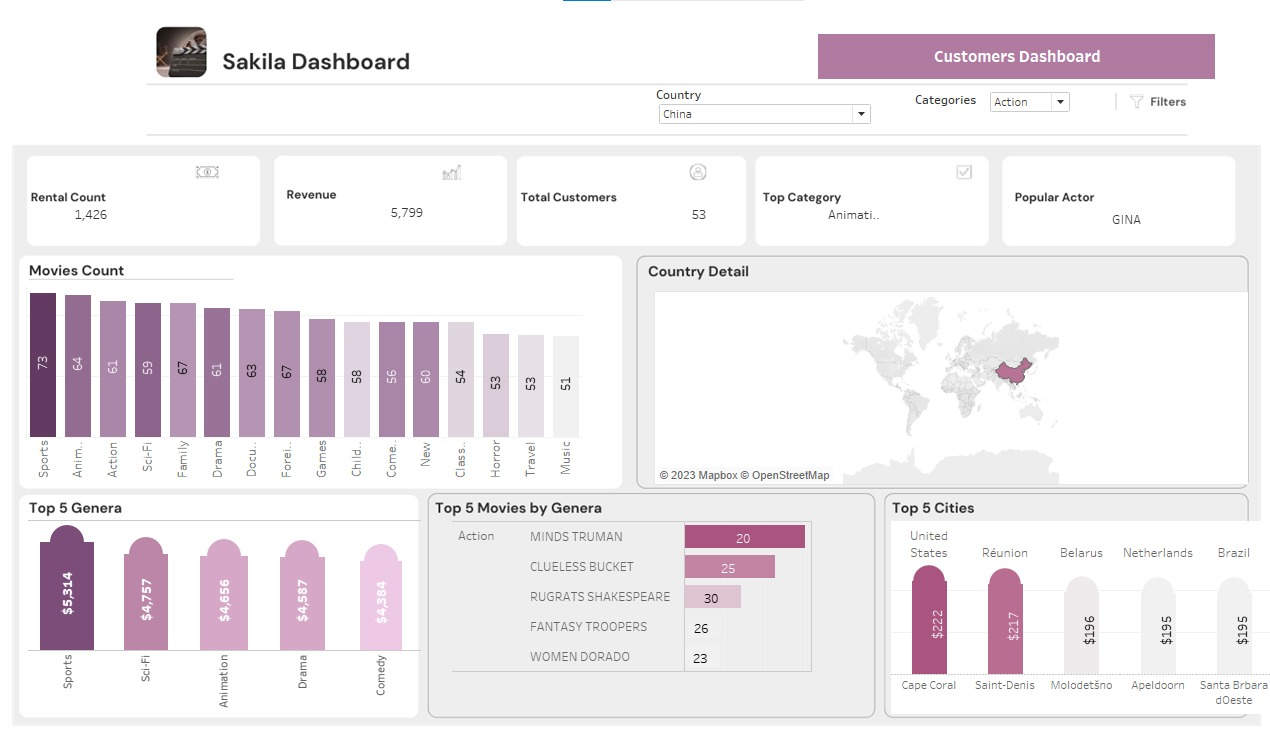

The dashboard page shown, as its layout file describes it:
{"tool":"tableau","page":{"name":"Movies-DB","canvas":[1000,1000],"units":"permille","ordinal":3},"visuals":[{"type":"image","param":"Image/Sakila Dashboard  (1350 x 800 px) (1400 x 800 px) 1.png","box":[7,12.3,986,975.4]},{"type":"dashboard-object","box":[647.1,56.9,114.1,43.1]},{"type":"dashboard-object","box":[775.2,56.9,114.1,43.1]},{"type":"filter","title":"Top 5 Movies each Category","param":"[federated.0kxp58908w2vwv18axku50vcwq3s].[none:category (Custom SQL Query7):nk]","box":[611.9,115.4,147.5,80]},{"type":"filter","title":"KPI-poular actor","param":"[federated.0kxp58908w2vwv18axku50vcwq3s].[none:country:nk]","box":[352.1,116.9,238.8,61.5]},{"type":"worksheet","title":"KPI-rental count","mark":"Automatic","box":[90.4,240,109.8,81.5]},{"type":"worksheet","title":"KPI-revenue","mark":"Automatic","box":[265.1,244.6,129.9,81.5]},{"type":"worksheet","title":"KPI-total customers","mark":"Automatic","box":[488.2,246.2,84.3,78.5]},{"type":"worksheet","title":"KPI-category","mark":"Automatic","box":[611.9,266.1,153.6,100]},{"type":"worksheet","title":"KPI-poular actor","mark":"Automatic","box":[804.2,266.1,144.9,63.1]},{"type":"worksheet","title":"Films in Each Category","mark":"Automatic","rows":["rental_count (Custom SQL Query3)"],"cols":["name (Custom SQL Query3)"],"box":[21.9,360,453,293.9]},{"type":"worksheet","title":"Country Detail","mark":"Automatic","box":[496.9,386.2,459.2,267.7]},{"type":"worksheet","title":"Top 5 Movies each Category","mark":"Automatic","rows":["category (Custom SQL Query7)","film_title"],"cols":["revenue (Custom SQL Query7)"],"box":[336.3,698.5,335.4,266.1]},{"type":"worksheet","title":"Top 5 cities","mark":"Automatic","rows":["total_revenue"],"cols":["country (Custom SQL Query)","city (Custom SQL Query)"],"box":[687.5,698.5,265.1,266.1]},{"type":"worksheet","title":"Top 5 Category","mark":"Automatic","rows":["revenue (Custom SQL Query6)"],"cols":["category (Custom SQL Query6)"],"box":[20.2,701.5,297.6,261.5]}]}

Visuals, with their boxes on the dashboard's canvas, which has no fixed pixel size, in thousandths of its width and height (x1, y1, x2, y2). These are canvas units, not pixel positions in the 1270x732 screenshot, which may show the page scaled, cropped or inside an application window:
image: (7,12,993,988)
dashboard-object: (647,57,761,100)
dashboard-object: (775,57,889,100)
"Top 5 Movies each Category" filter: (612,115,759,195)
"KPI-poular actor" filter: (352,117,591,178)
"KPI-rental count" worksheet: (90,240,200,322)
"KPI-revenue" worksheet: (265,245,395,326)
"KPI-total customers" worksheet: (488,246,572,325)
"KPI-category" worksheet: (612,266,766,366)
"KPI-poular actor" worksheet: (804,266,949,329)
"Films in Each Category" worksheet: (22,360,475,654)
"Country Detail" worksheet: (497,386,956,654)
"Top 5 Movies each Category" worksheet: (336,698,672,965)
"Top 5 cities" worksheet: (688,698,953,965)
"Top 5 Category" worksheet: (20,702,318,963)
